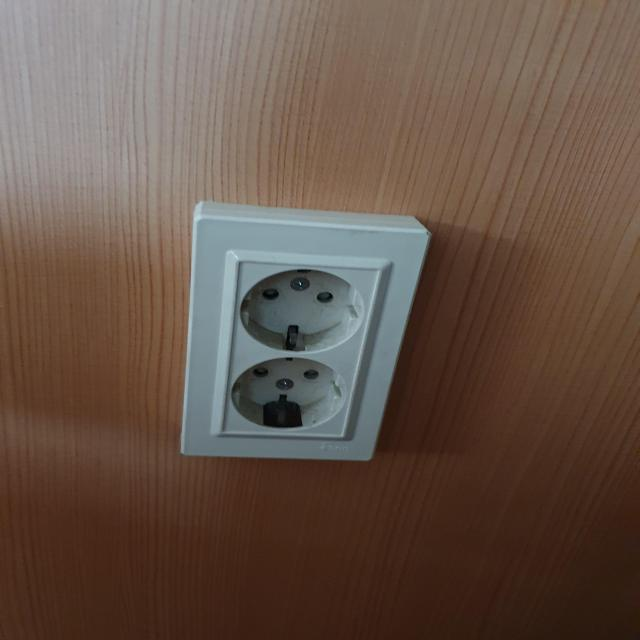typeb: (144, 179, 451, 509)
